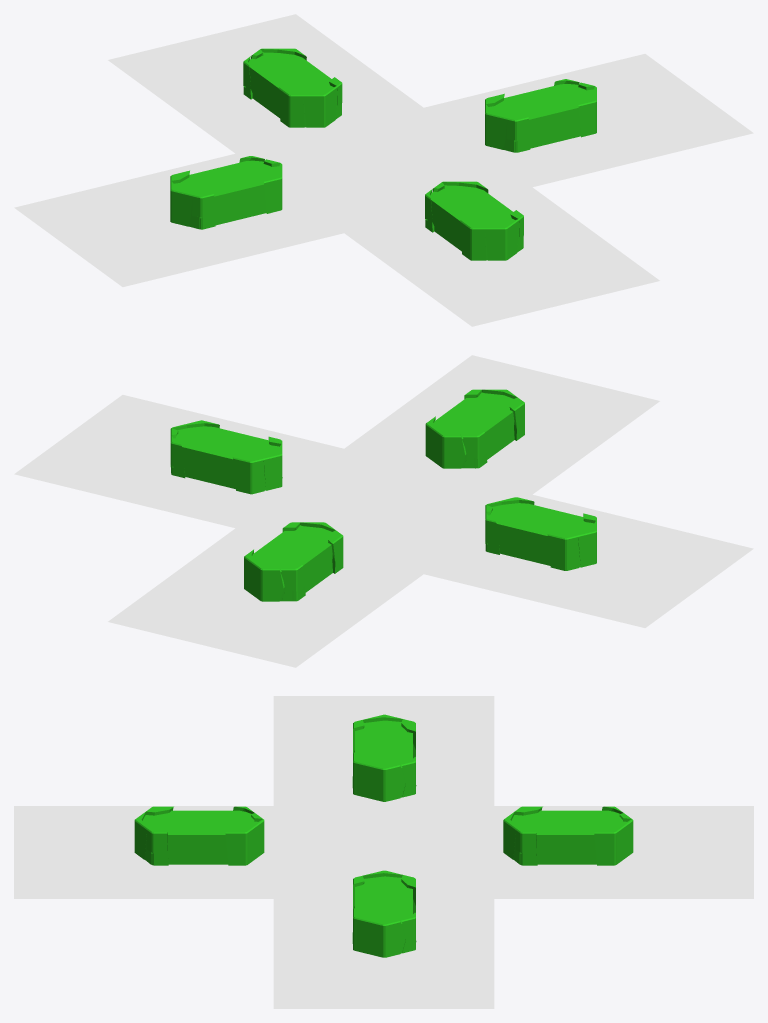
The model's file is RotatingSquare.fbx.
3 renders of one model, top to bottom at view 1: azimuth 30°, elevation 25°; view 2: azimuth 150°, elevation 25°; view 3: azimuth 270°, elevation 25°, orthographic.
Parts seen in each view (by area): view 1: Shadow (×4), Model (×4), HexGib01 (×4), HexGib09 (×2), HexGib04 (×2), HexGib02 (×2); view 2: Shadow (×4), Model (×4), HexGib09 (×2), HexGib04 (×2), HexGib05 (×2), HexGib01 (×2); view 3: Shadow (×4), Model (×4), HexGib04 (×4), HexGib05 (×2), HexGib02 (×2).
Boxes of the visible parts, x1,y1,x2,y2 form: Shadow (×4): (14, 14, 753, 326); Model (×4): (174, 52, 593, 260); HexGib01 (×4): (170, 86, 519, 260); HexGib09 (×2): (278, 87, 486, 260); HexGib04 (×2): (264, 86, 596, 213); HexGib02 (×2): (192, 115, 529, 219); Shadow (×4): (14, 355, 753, 667); Model (×4): (171, 392, 594, 601); HexGib09 (×2): (232, 455, 579, 570); HexGib04 (×2): (244, 416, 444, 601); HexGib05 (×2): (262, 433, 466, 601); HexGib01 (×2): (263, 444, 596, 567); Shadow (×4): (14, 696, 753, 1008); Model (×4): (142, 720, 626, 953); HexGib04 (×4): (225, 753, 633, 957); HexGib05 (×2): (385, 763, 404, 957); HexGib02 (×2): (146, 828, 536, 858).
Bounding box in the file's own units: 6.82 × 0.3461 × 6.82.
